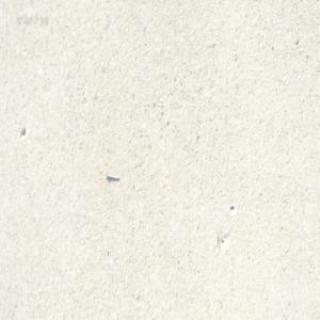Nailtrack_idkeyframe: (105, 170, 118, 180)
